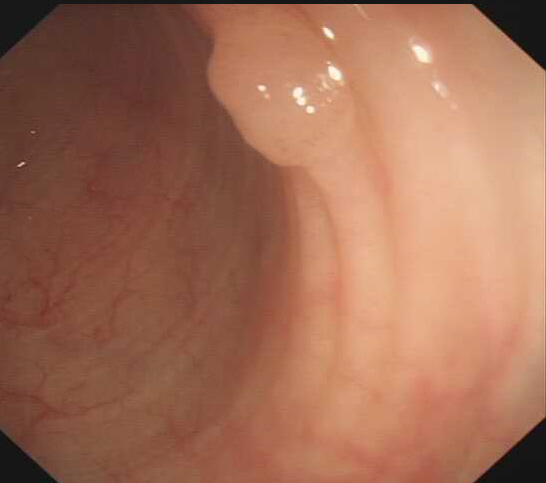others: (202, 13, 360, 170)
